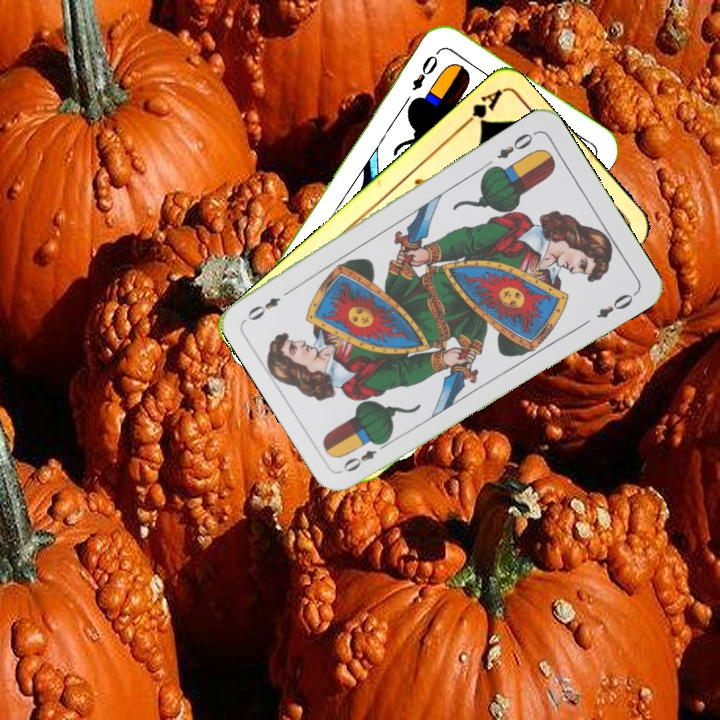EO: (339, 436, 392, 475), (493, 127, 539, 162), (408, 51, 441, 94)
GA: (455, 86, 504, 132)
